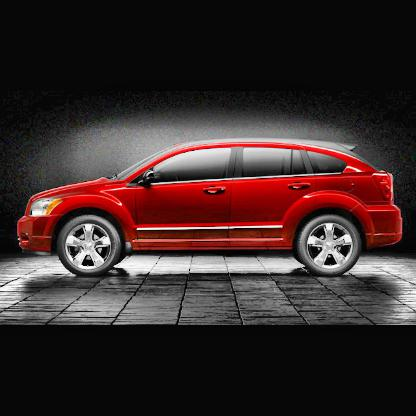Dodge Caliber Wagon 2007: (19, 141, 402, 280)
